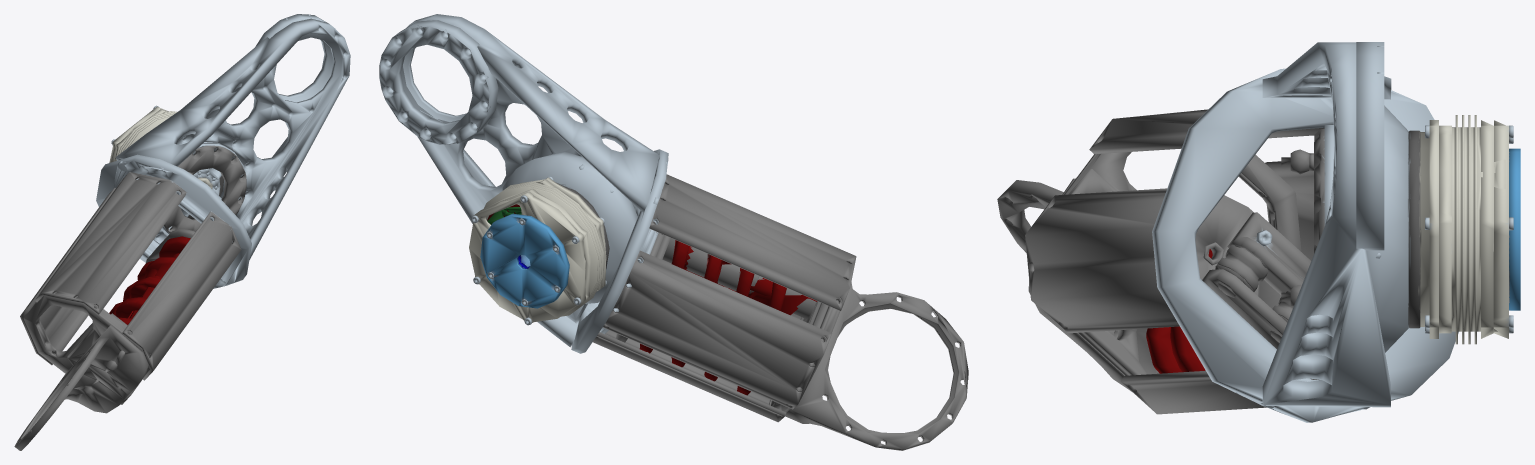
The model's file is legl_hip3_joint.obj.
The picture shows the model from 3 angles, left to right: view 1: azimuth 30°, elevation 25°; view 2: azimuth 150°, elevation 25°; view 3: azimuth 270°, elevation 25°; orthographic projection. The views are drawn at different scales.
Bounding box in the file's own units: 0.3942 × 0.2916 × 0.2243.
Materials: 1 (1 with a texture image).
